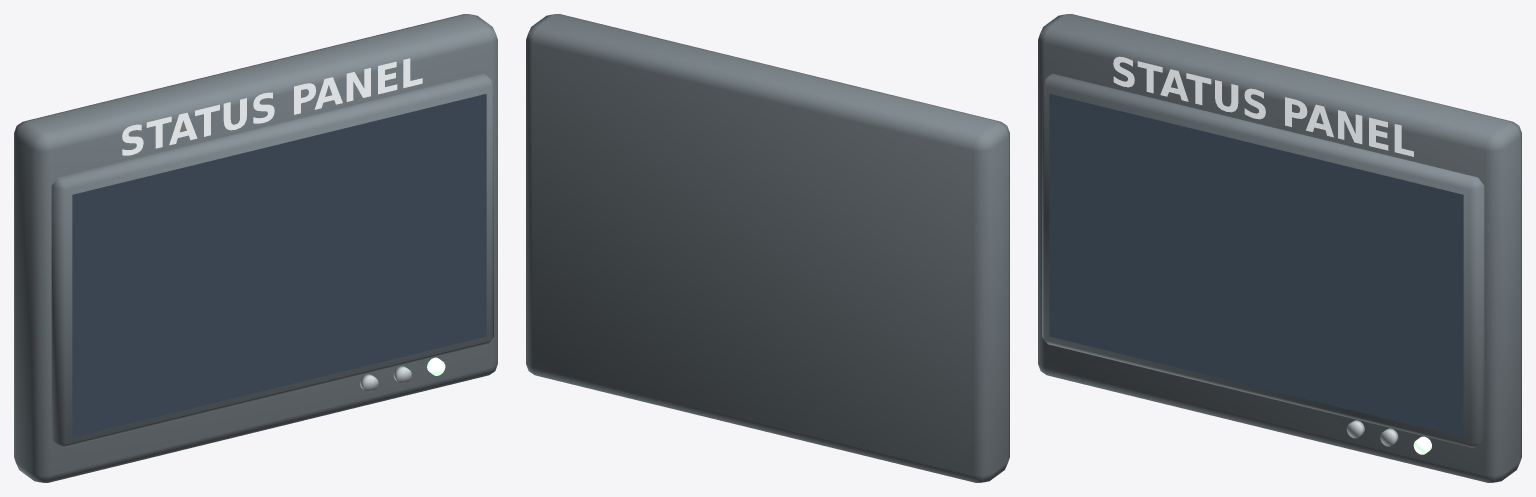
Rendered from status_panel_enhanced.glb.
3 renders of one model, left to right at view 1: azimuth 30°, elevation 25°; view 2: azimuth 150°, elevation 25°; view 3: azimuth 330°, elevation 25°, orthographic.
Parts seen in each view (by area): view 1: LiveViewSurface_glass, DisplayHousing_frame, LiveViewSurfaceFrame_frame, TypeLabel_white, Controls_steel; view 2: DisplayHousing_frame; view 3: LiveViewSurface_glass, DisplayHousing_frame, LiveViewSurfaceFrame_frame, TypeLabel_white, Controls_steel.
Boxes of the visible parts, x1,y1,x2,y2 form: LiveViewSurface_glass: [72, 94, 486, 437]; DisplayHousing_frame: [14, 14, 497, 482]; LiveViewSurfaceFrame_frame: [51, 73, 493, 447]; TypeLabel_white: [122, 58, 422, 155]; Controls_steel: [360, 366, 411, 392]; DisplayHousing_frame: [526, 14, 1009, 482]; LiveViewSurface_glass: [1049, 94, 1463, 437]; DisplayHousing_frame: [1038, 14, 1521, 482]; LiveViewSurfaceFrame_frame: [1042, 73, 1484, 447]; TypeLabel_white: [1113, 56, 1413, 156]; Controls_steel: [1346, 420, 1398, 446].
Size of the model in its own units: 1.18 by 0.848 by 0.168.
